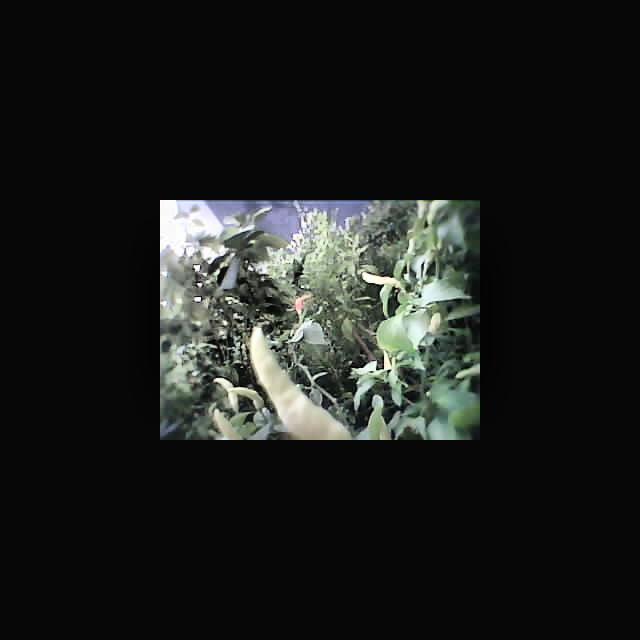Cabai: (292, 289, 318, 323)
